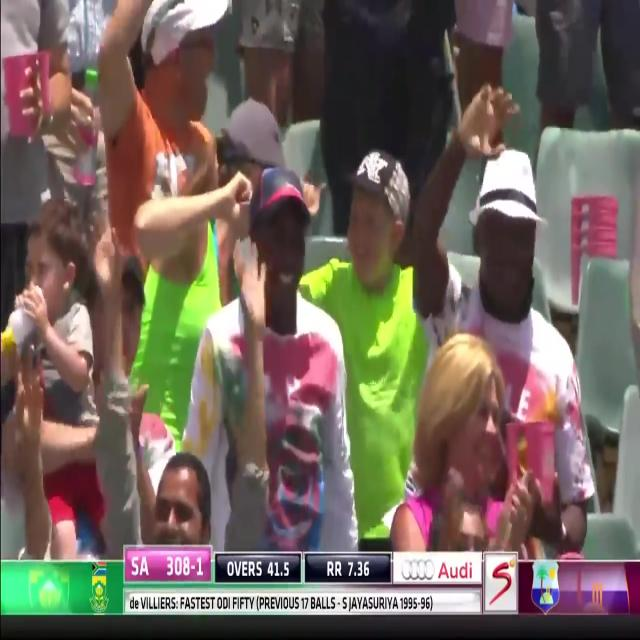Ball: (280, 0, 615, 555)
